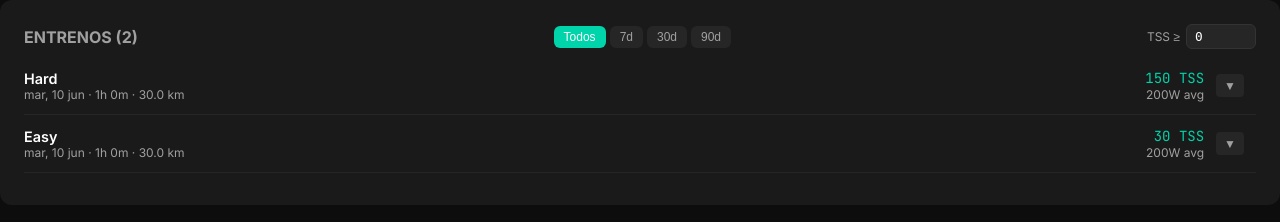
Test case: WorkoutList › filters workouts by minimum TSS
Step 1. Replace the text in the number field showing "0" with "100" → (1221, 36), box [1186,24,1256,49]
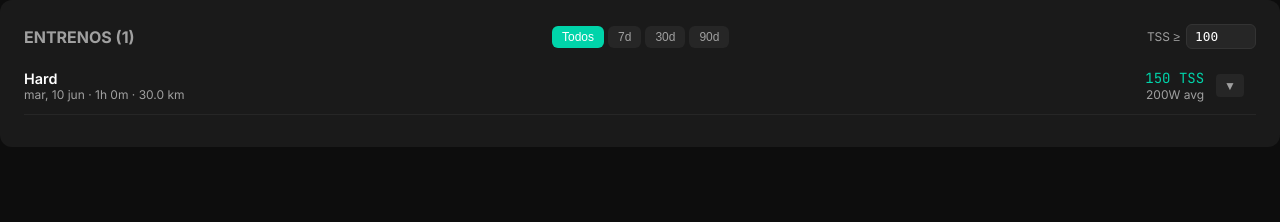
Check: the heading "ENTRENOS (1)" is shown, box [24,26,135,46]
Check: the text "Easy" is gone
